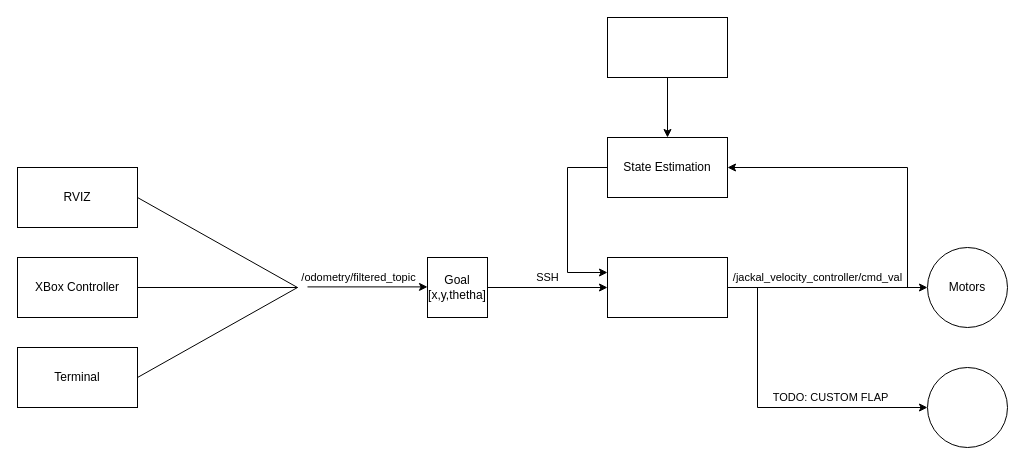
The diagram is 1025 pixels wide and 465 high, and some of its shapes have lost their labels. Each missing label, with the box of its shape:
Controller: (606, 256, 728, 318)
GPS: (606, 16, 728, 78)
Pump: (926, 366, 1008, 448)
